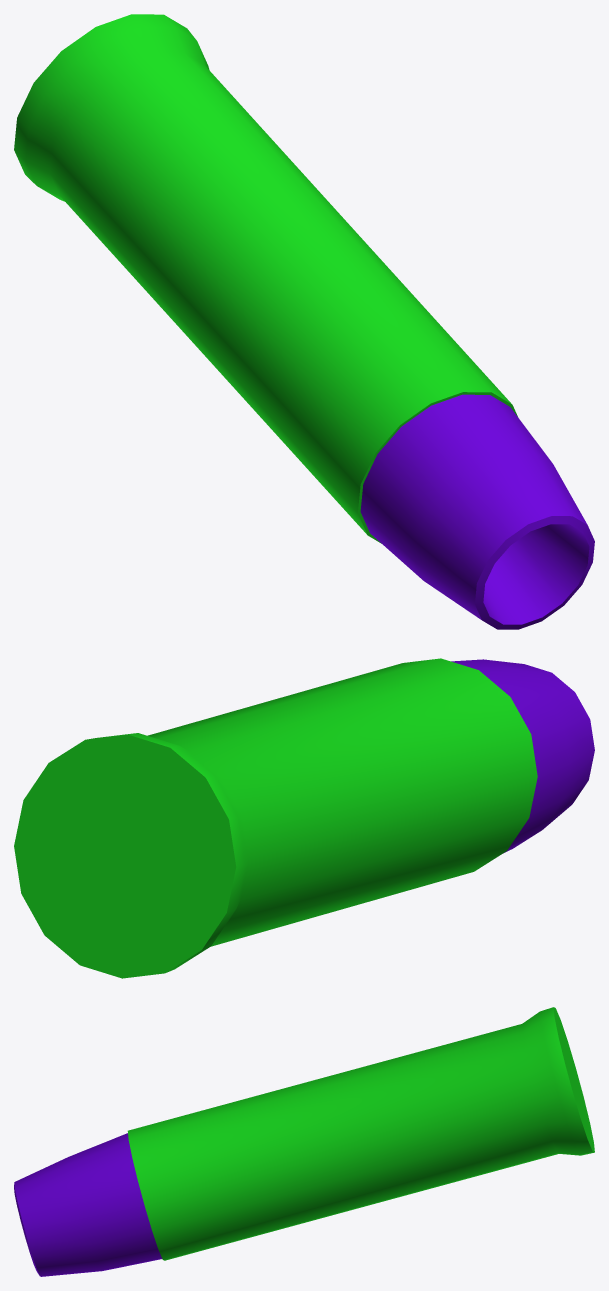
File: Bullet.fbx
The picture shows the model from 3 angles, top to bottom: view 1: azimuth 30°, elevation 25°; view 2: azimuth 150°, elevation 25°; view 3: azimuth 270°, elevation 25°; orthographic projection. The views are drawn at different scales.
Visible parts, largest first — view 1: Bullet; view 2: Bullet; view 3: Bullet.
Part boxes in pixels (x1,y1,x2,y2): Bullet: [14, 14, 594, 629]; Bullet: [14, 658, 594, 978]; Bullet: [14, 1007, 594, 1276].
Size of the model in its own units: 1 by 1.64 by 3.5.
